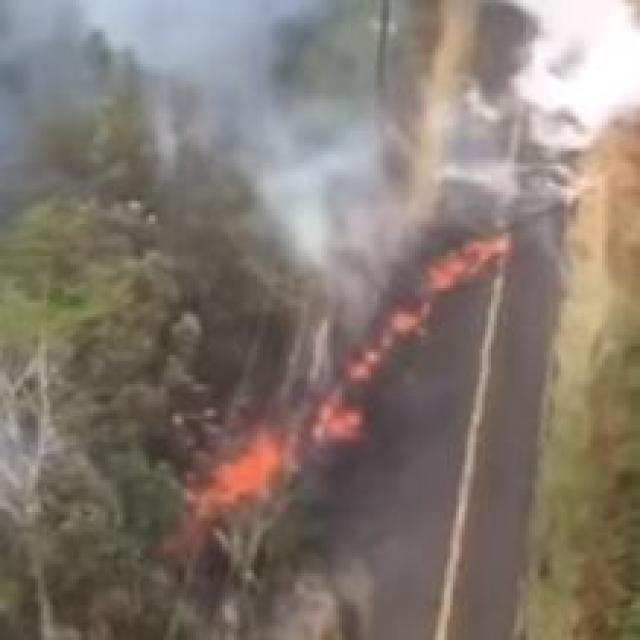Smoke: (74, 0, 389, 294)
